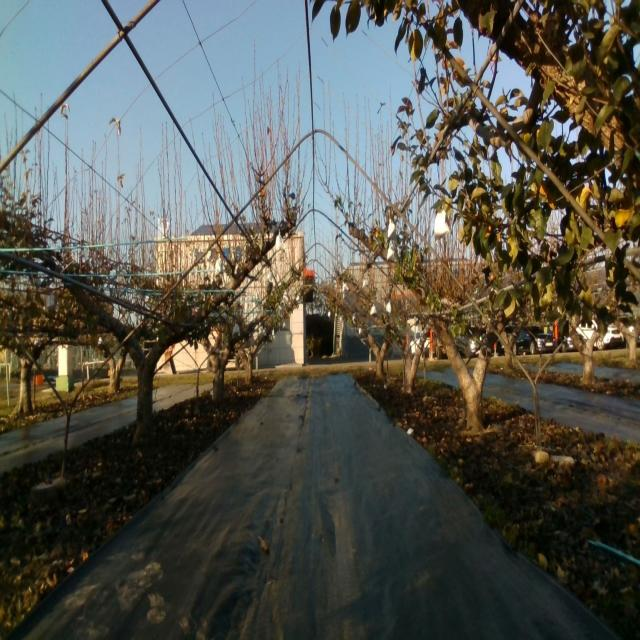pearbags: (434, 208, 451, 246), (214, 253, 226, 278), (387, 240, 398, 264), (387, 217, 398, 240), (275, 231, 286, 252)
